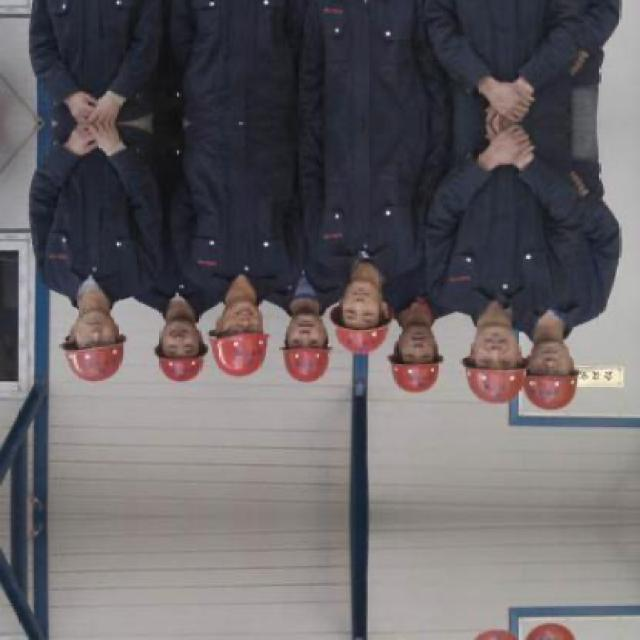con casco: (488, 306, 601, 431), (441, 320, 526, 408), (208, 298, 274, 377), (62, 299, 124, 372), (320, 288, 386, 356), (392, 332, 461, 397), (159, 300, 199, 392), (285, 306, 322, 394)
